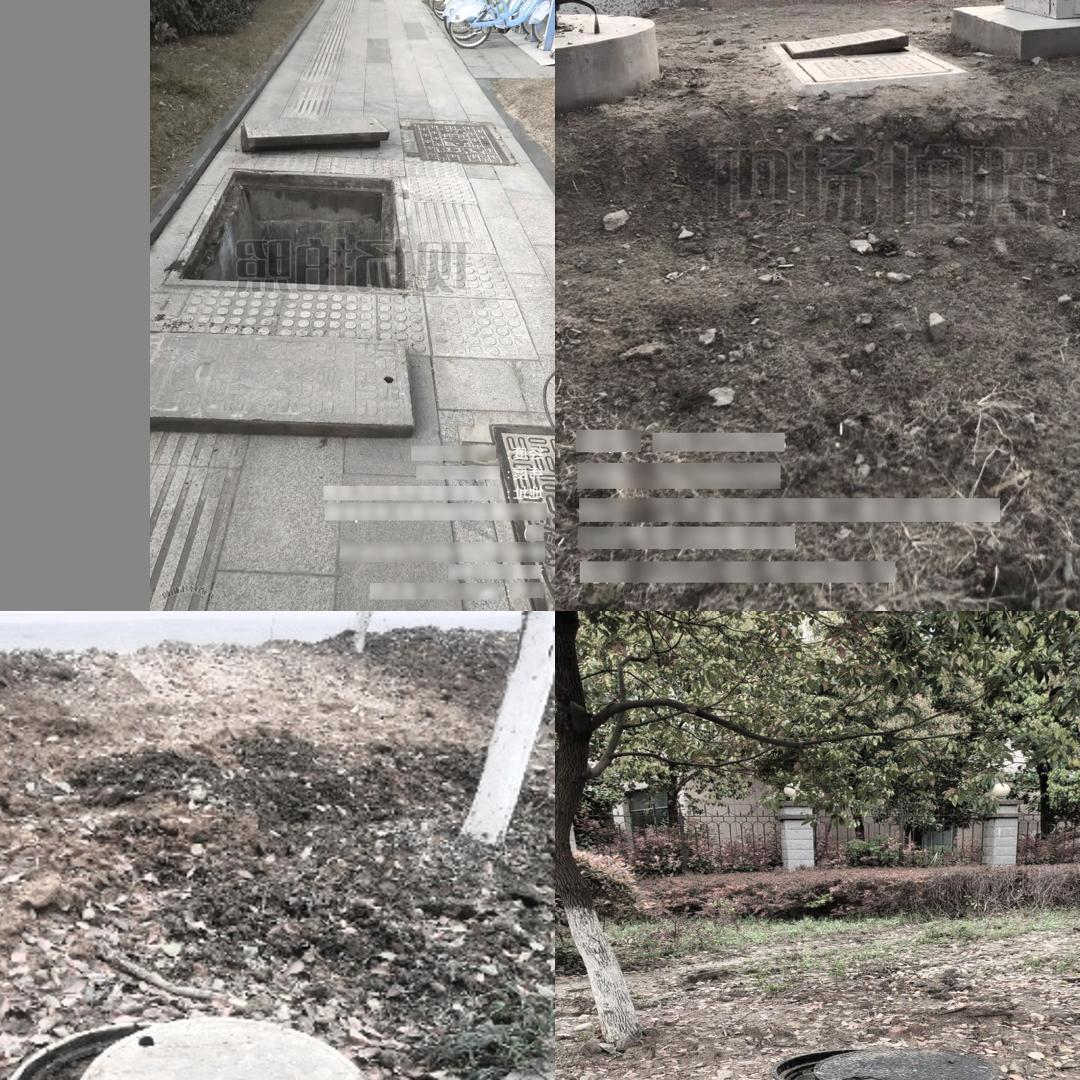good: (402, 115, 519, 162)
uncovered: (150, 115, 415, 438), (0, 1013, 375, 1080), (757, 1024, 1007, 1080), (773, 21, 972, 80)
